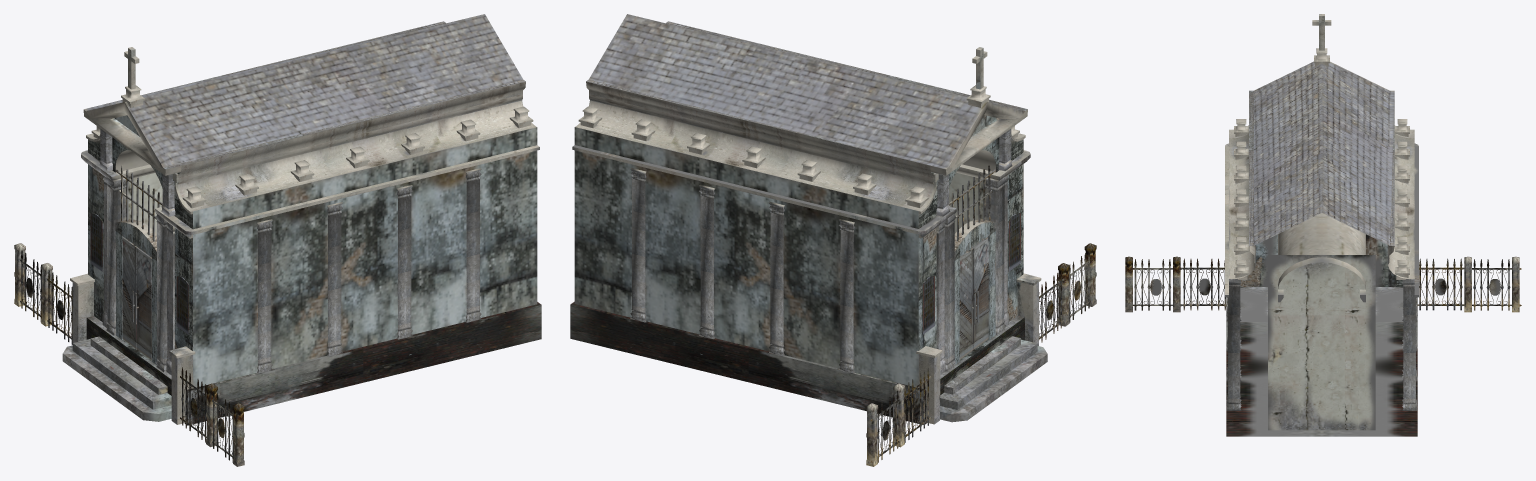
Rendered from Church.fbx.
3 views of the same model, side by side, from view 1: azimuth 30°, elevation 25°; view 2: azimuth 150°, elevation 25°; view 3: azimuth 270°, elevation 25° (orthographic). The views are drawn at different scales.
Visible parts, largest first — view 1: tomb_litle_ae.1, Cylinder.2; view 2: tomb_litle_ae.1, Cylinder.2; view 3: tomb_litle_ae.1.
Part boxes in pixels (bbox=[...]): tomb_litle_ae.1: bbox=[14, 14, 541, 466]; Cylinder.2: bbox=[122, 237, 151, 359]; tomb_litle_ae.1: bbox=[570, 14, 1096, 466]; Cylinder.2: bbox=[959, 237, 988, 359]; tomb_litle_ae.1: bbox=[1125, 14, 1521, 436].
Bounding box in the file's own units: 892 × 750 × 902.
3 materials, 3 textured.
